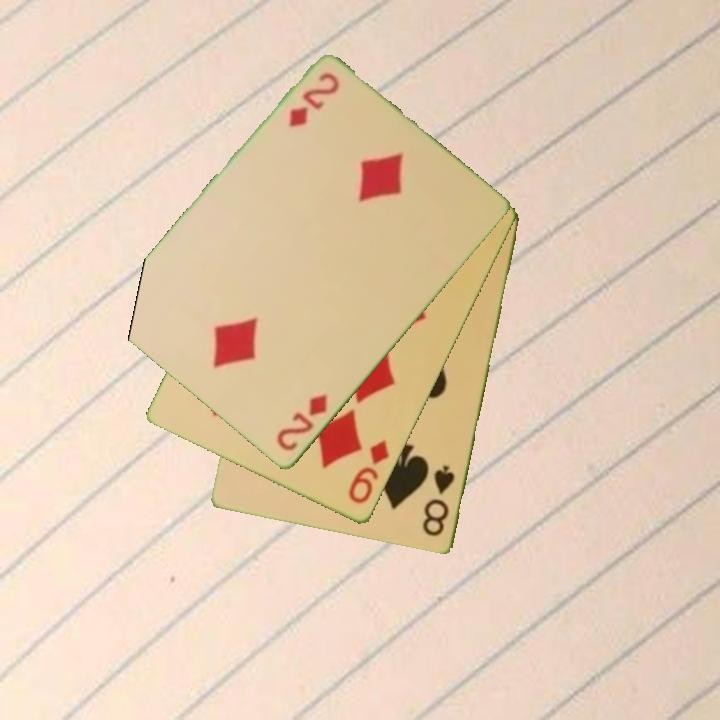2d: (273, 390, 331, 455), (284, 69, 342, 131)
8s: (419, 462, 458, 540)
9d: (345, 437, 392, 508)
